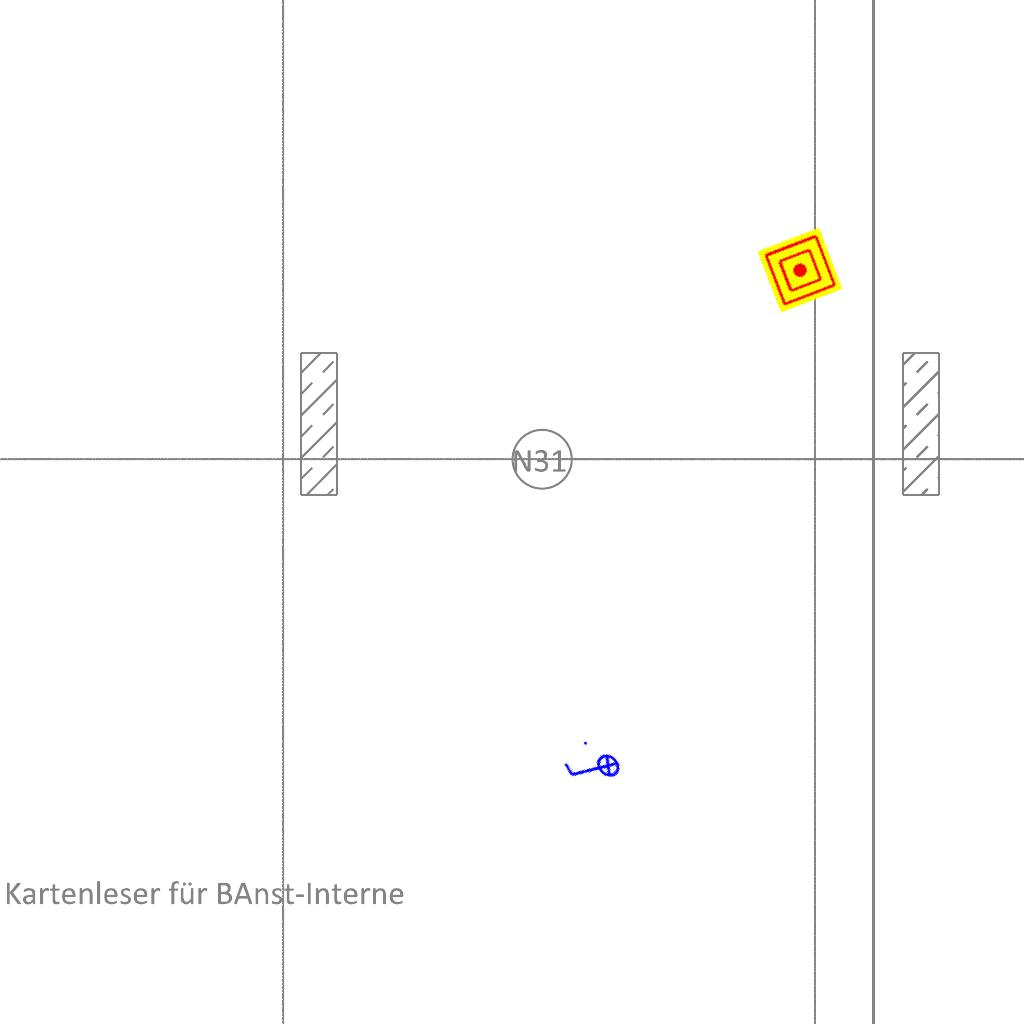Ausschalter_beleuchtet: (556, 732, 630, 806)
NAM-Nichtautomatischer_Melder: (757, 227, 843, 313)
